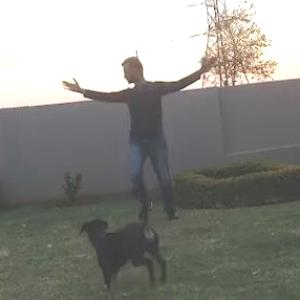takeoff: (47, 36, 216, 228)
